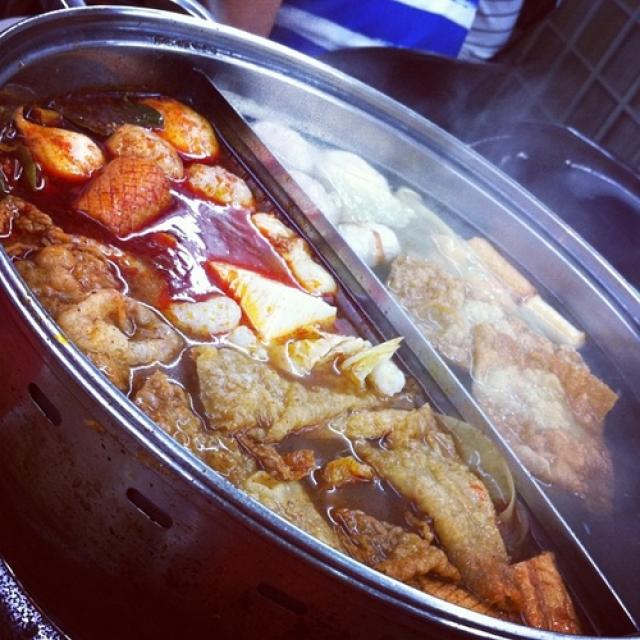汤锅炖物: (9, 5, 623, 616)
